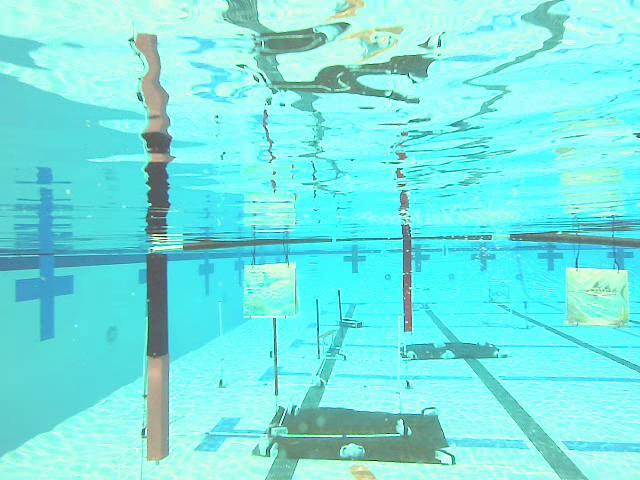black_poster: (273, 320, 280, 395), (337, 290, 343, 337), (316, 299, 320, 358)
divider: (403, 237, 412, 332)
left_gate_poster: (148, 253, 168, 460)
shark: (243, 263, 296, 318)
swordfish: (567, 268, 629, 324)
white_poster: (217, 304, 225, 387)
